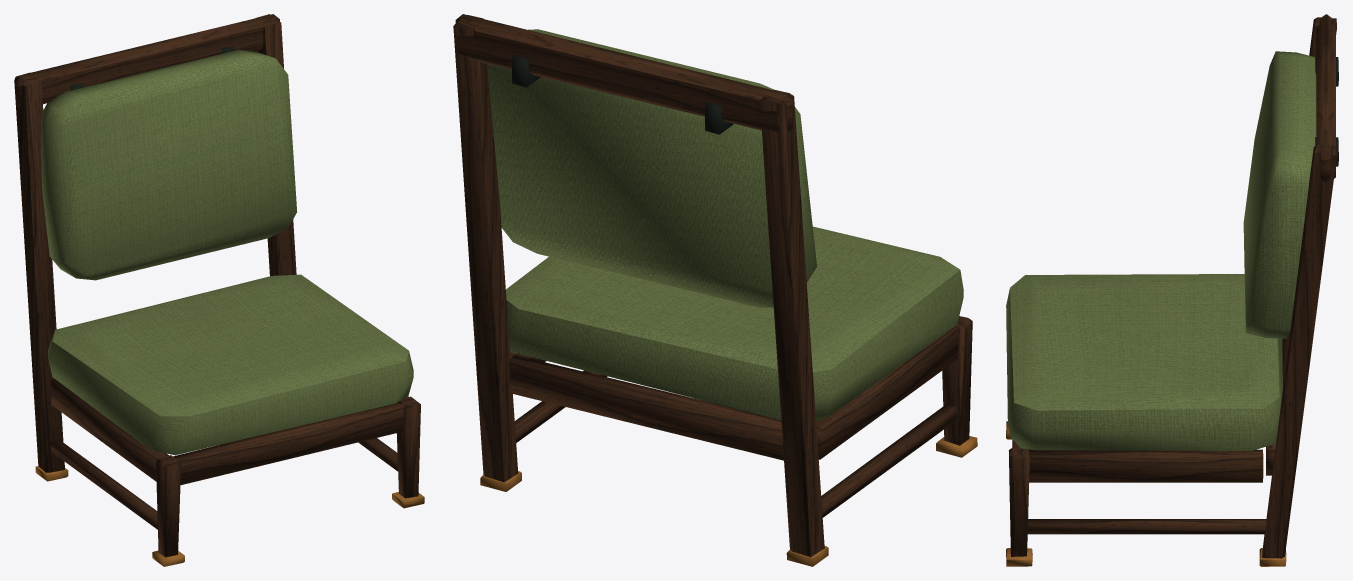
Rendered from arrival-chair.lod2.glb.
3 renders of one model, left to right at view 1: azimuth 30°, elevation 25°; view 2: azimuth 150°, elevation 25°; view 3: azimuth 270°, elevation 25°, orthographic. The views are drawn at different scales.
Visible parts, largest first — view 1: arrival_chair_Fabric • moss weave, arrival_chair_Timber • oiled walnut, arrival_chair_Trim • brass and bronze; view 2: arrival_chair_Fabric • moss weave, arrival_chair_Timber • oiled walnut, arrival_chair_Trim • brass and bronze; view 3: arrival_chair_Fabric • moss weave, arrival_chair_Timber • oiled walnut, arrival_chair_Trim • brass and bronze.
Boxes of the visible parts, x1=… form: arrival_chair_Fabric • moss weave: x1=40, y1=49, x2=413, y2=455; arrival_chair_Timber • oiled walnut: x1=14, y1=14, x2=420, y2=557; arrival_chair_Trim • brass and bronze: x1=35, y1=46, x2=424, y2=566; arrival_chair_Fabric • moss weave: x1=487, y1=29, x2=963, y2=421; arrival_chair_Timber • oiled walnut: x1=453, y1=14, x2=972, y2=556; arrival_chair_Trim • brass and bronze: x1=480, y1=55, x2=977, y2=566; arrival_chair_Fabric • moss weave: x1=1006, y1=51, x2=1316, y2=450; arrival_chair_Timber • oiled walnut: x1=1008, y1=14, x2=1336, y2=558; arrival_chair_Trim • brass and bronze: x1=1006, y1=57, x2=1338, y2=566.
Bounding box in the file's own units: 0.6 × 0.8268 × 0.5972.
3 materials, 3 textured.
